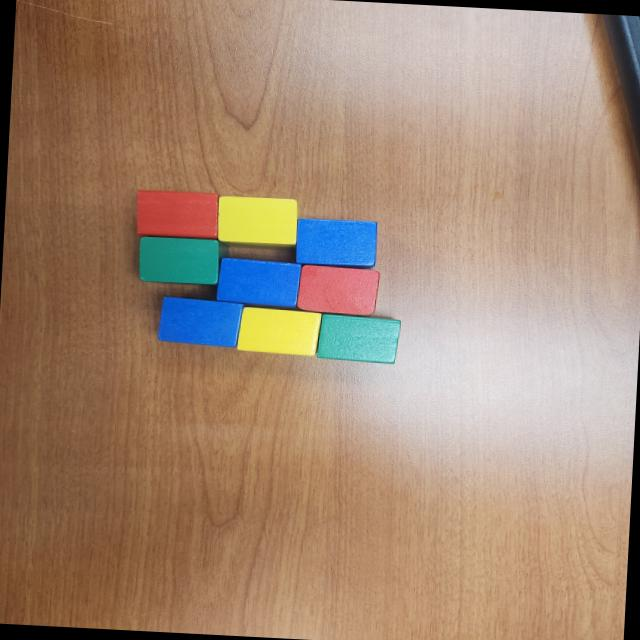blue: (157, 297, 246, 348), (216, 258, 302, 310), (295, 218, 379, 269)
green: (136, 234, 232, 287), (316, 314, 404, 366)
red: (134, 190, 222, 240), (296, 263, 379, 316)
yellow: (216, 194, 300, 244), (237, 307, 322, 356)
